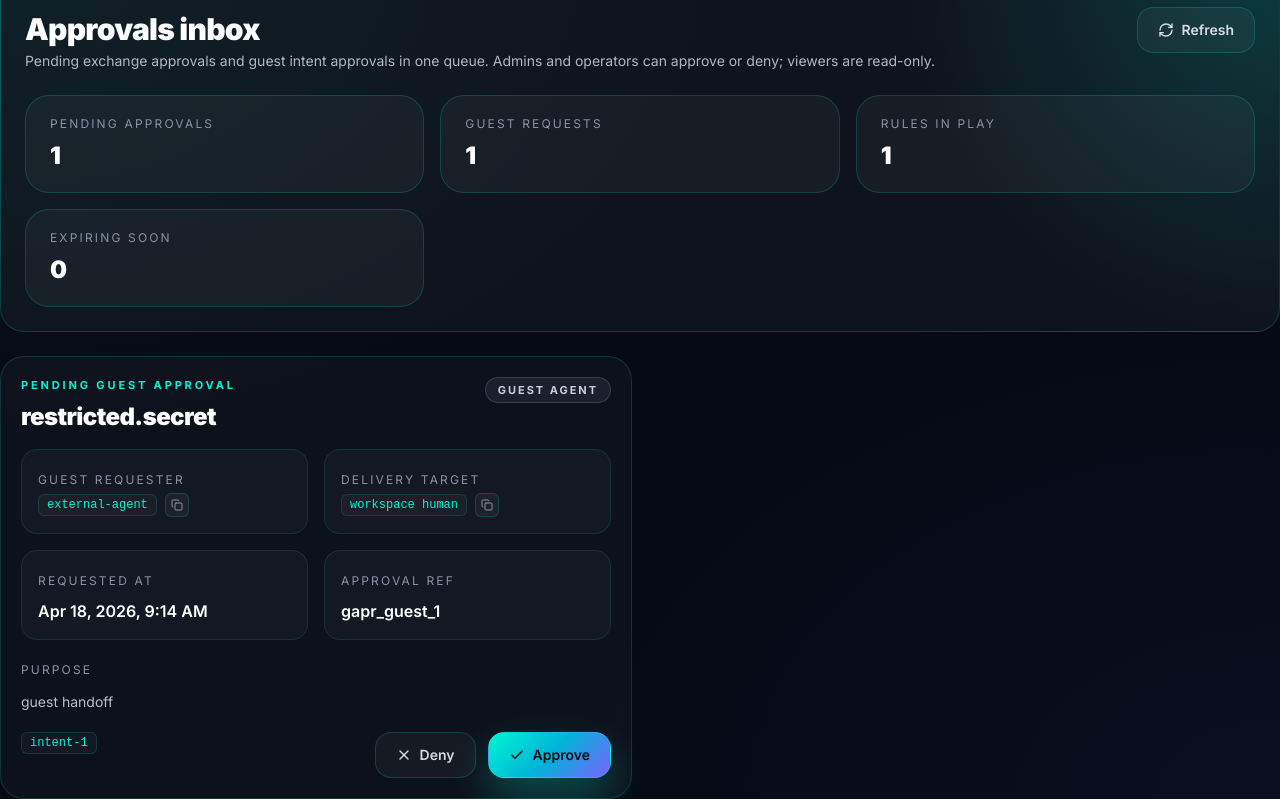
ApprovalsPage › lets admins approve pending guest requests from the inbox
(page scrolled)
Expected: the heading "restricted.secret" is shown, [21,401,236,433]
Click the button "Approve".
click(549, 755)  # box [488,732,611,778]
(page scrolled)
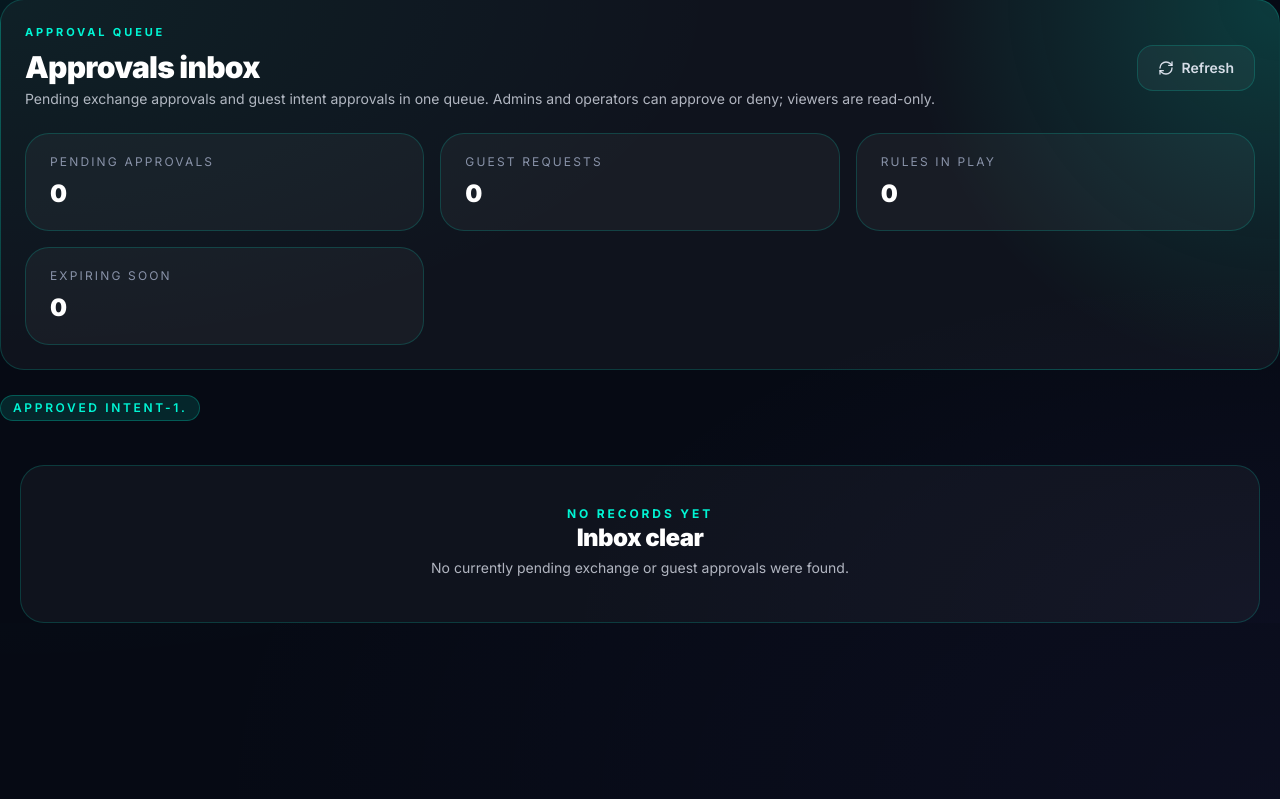
Expected: the text "Approved intent-1." is shown, [0,394,200,420]
Expected: the heading "restricted.secret" is gone
